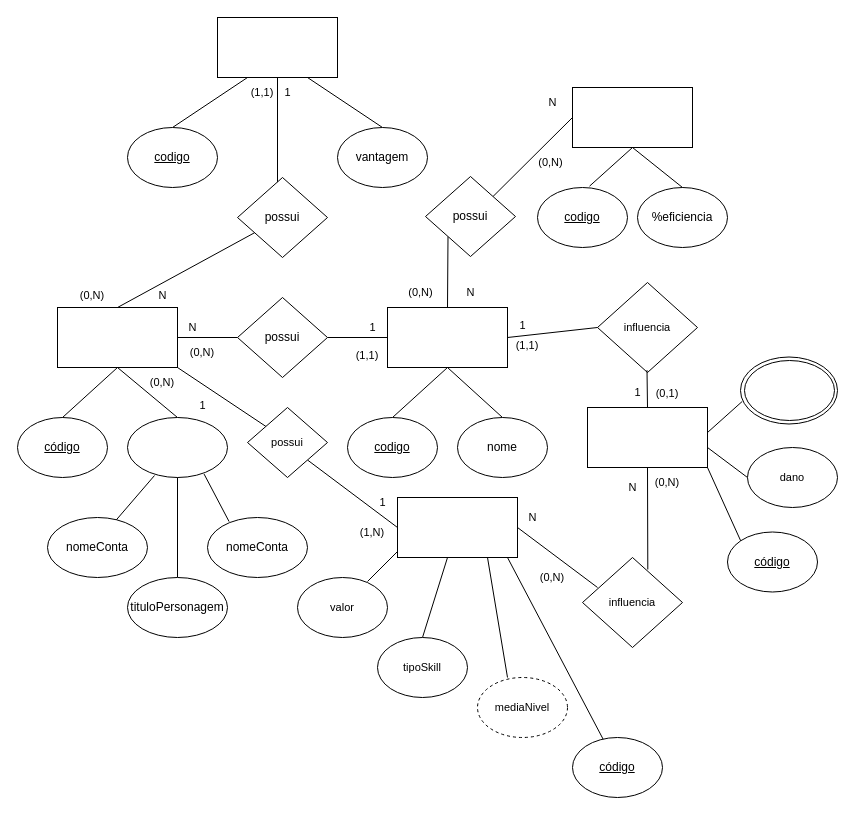
This 855x815 diagram has some shape labels left out. Here are the shapes that lost their labels. From the top down, the centre of each, then its label:
(x=277, y=47): RAÇA
(x=632, y=117): EQUIPAMENTO
(x=117, y=337): JOGADOR
(x=447, y=337): CLASSE
(x=789, y=390): tipo
(x=177, y=447): nickname
(x=647, y=437): ATAQUE
(x=457, y=527): NIVEL
